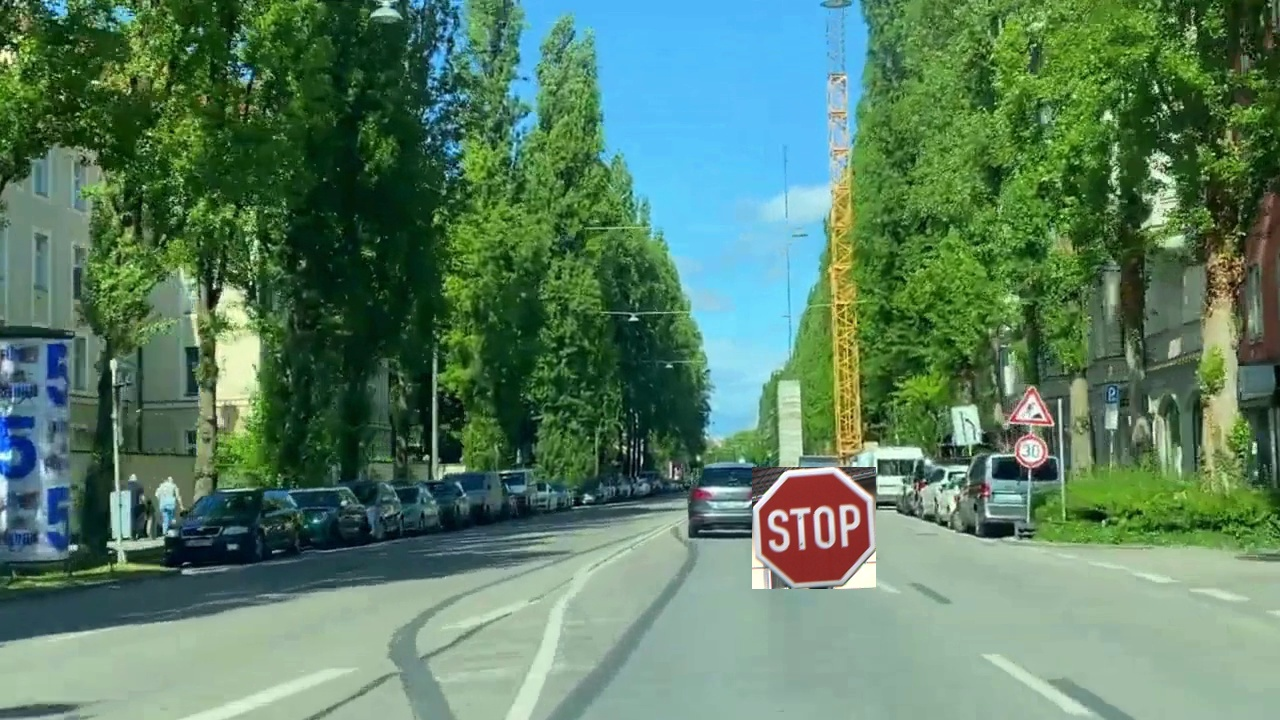Stop: (752, 467, 876, 589)
